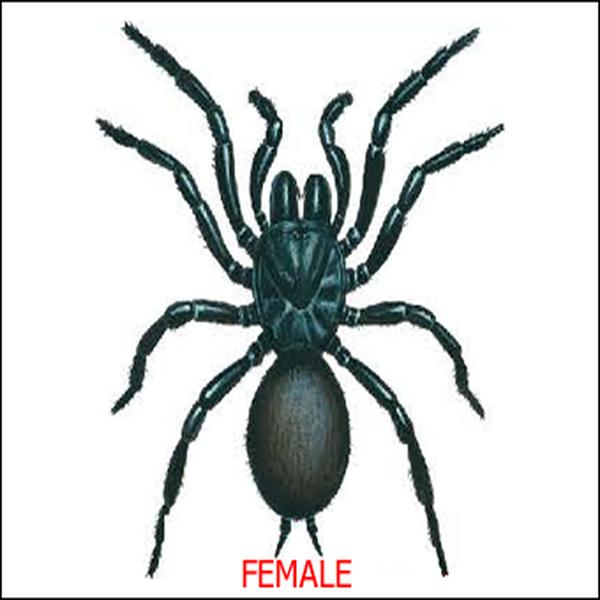Funnel Web Spider: (109, 20, 505, 582)
